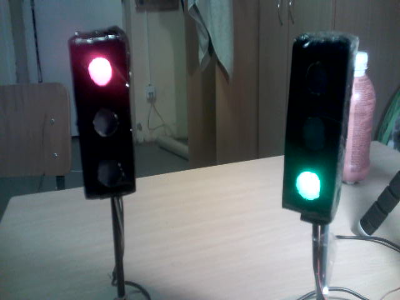trafficlight_green: (281, 39, 342, 213)
trafficlight_red: (74, 40, 131, 191)
